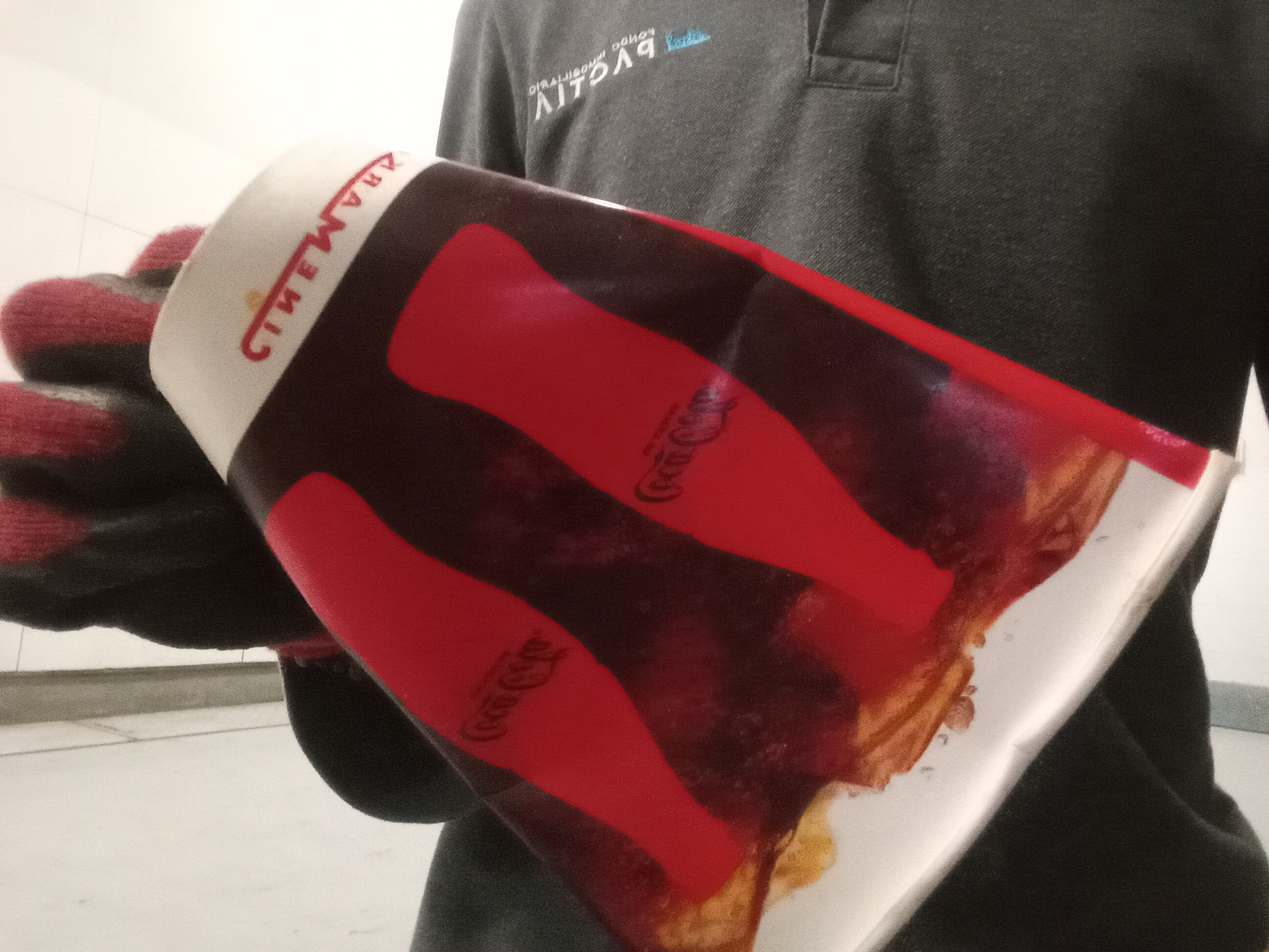Carton: (147, 142, 1242, 952)
